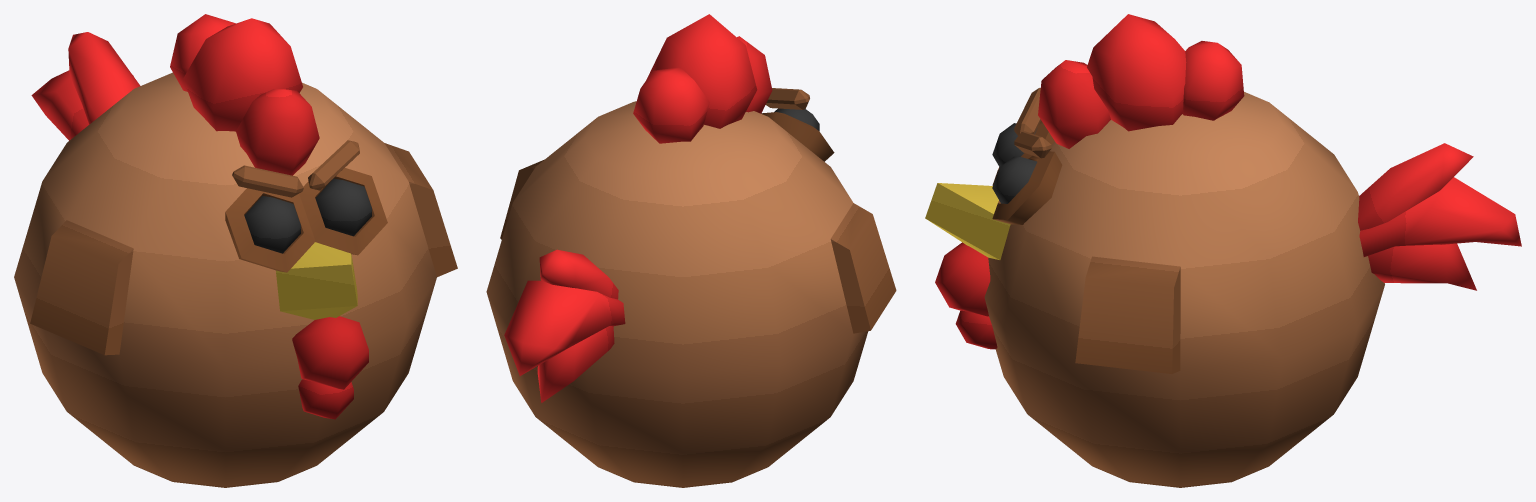
Rendered from chicken.fbx.
3 views of the same model, side by side, from view 1: azimuth 30°, elevation 25°; view 2: azimuth 150°, elevation 25°; view 3: azimuth 270°, elevation 25° (orthographic). The views are drawn at different scales.
Parts seen in each view (by area): view 1: Chicken Body, Angry Chicken; view 2: Chicken Body, Angry Chicken; view 3: Chicken Body, Angry Chicken.
Boxes of the visible parts, <box> form: Chicken Body: <box>14,14,457,487</box>; Angry Chicken: <box>232,140,359,197</box>; Chicken Body: <box>486,14,896,487</box>; Angry Chicken: <box>765,88,809,109</box>; Chicken Body: <box>925,14,1521,487</box>; Angry Chicken: <box>1014,88,1051,158</box>.
Bounding box in the file's own units: 155 × 174 × 207.
